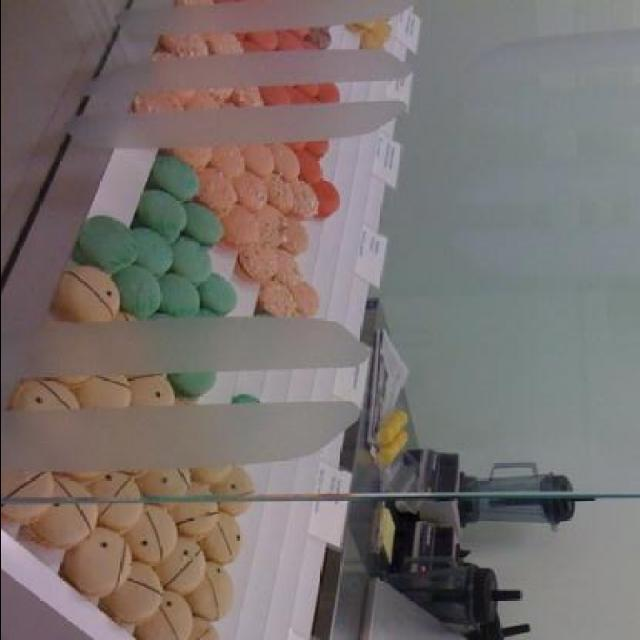Macaron: (1, 18, 390, 640)
